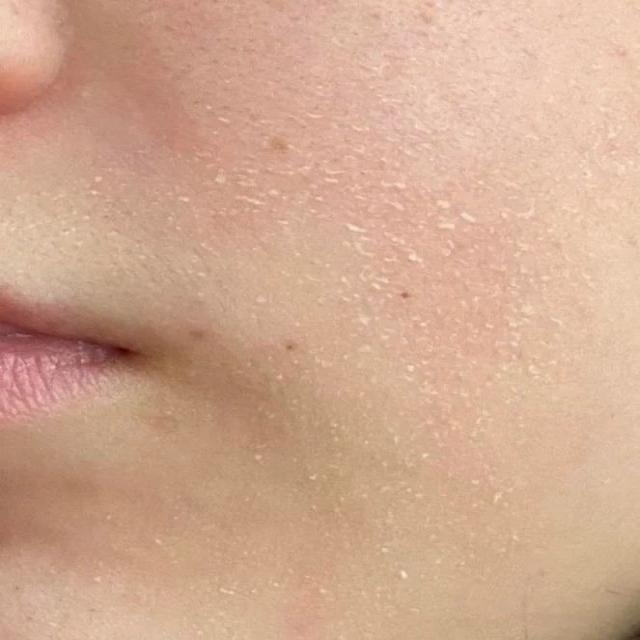Dry-Skin: (276, 162, 375, 251), (432, 280, 533, 362), (164, 99, 268, 178), (268, 340, 352, 410), (417, 178, 475, 248)
